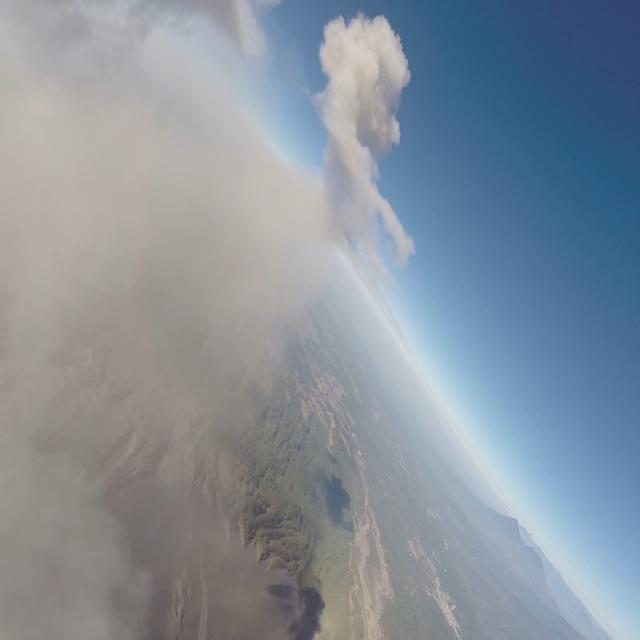Plume: (0, 0, 297, 629), (314, 8, 416, 284)
